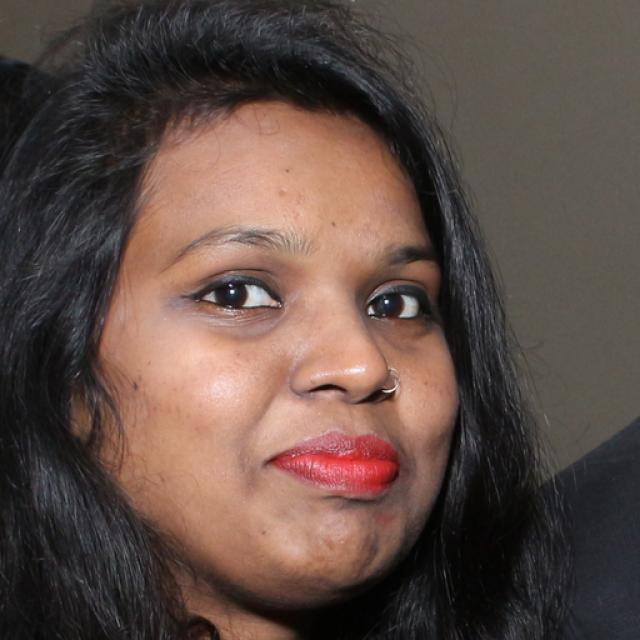Dark Circle: (200, 306, 286, 339), (370, 316, 434, 348)
